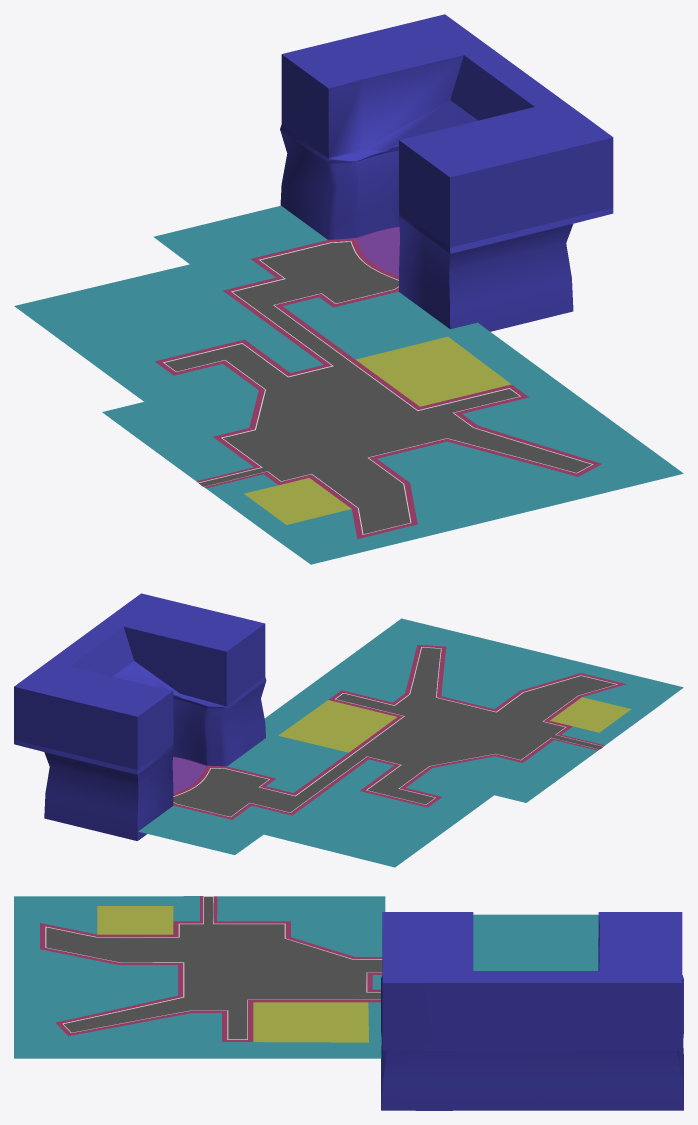
Rendered from Advertising-Hell-City-Terrain.fbx.
3 renders of one model, top to bottom at view 1: azimuth 30°, elevation 25°; view 2: azimuth 150°, elevation 25°; view 3: azimuth 270°, elevation 25°, orthographic. The views are drawn at different scales.
Parts seen in each view (by area): view 1: Advertising-Hell-City-Terrain, Advertising-Hell-City-Entrance, Advertising-Hell-City-Terrain-Water; view 2: Advertising-Hell-City-Terrain, Advertising-Hell-City-Entrance, Advertising-Hell-City-Terrain-Water; view 3: Advertising-Hell-City-Terrain, Advertising-Hell-City-Entrance.
Boxes of the visible parts, left/top/right/bottom form: Advertising-Hell-City-Terrain: left=14, top=205, right=683, bottom=564; Advertising-Hell-City-Entrance: left=280, top=14, right=613, bottom=331; Advertising-Hell-City-Terrain-Water: left=356, top=227, right=399, bottom=276; Advertising-Hell-City-Terrain: left=138, top=618, right=683, bottom=867; Advertising-Hell-City-Entrance: left=14, top=593, right=266, bottom=840; Advertising-Hell-City-Terrain-Water: left=172, top=757, right=206, bottom=793; Advertising-Hell-City-Terrain: left=14, top=896, right=598, bottom=1058; Advertising-Hell-City-Entrance: left=381, top=912, right=683, bottom=1110.
Bounding box in the file's own units: 33420 × 10225 × 42677.
